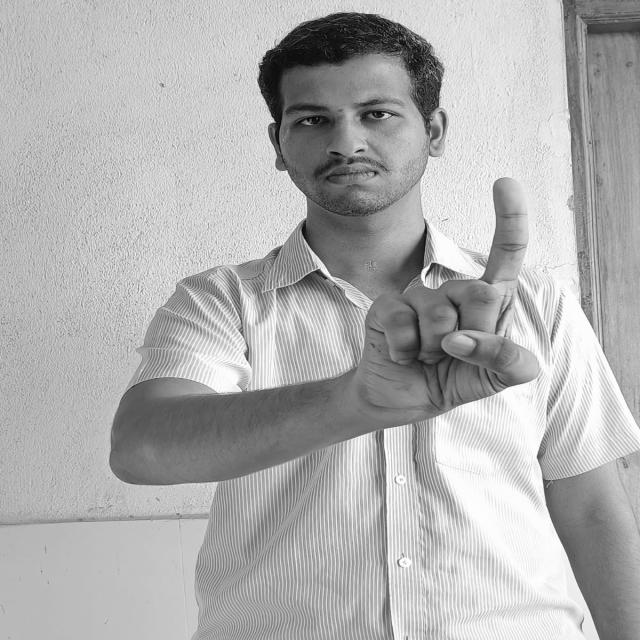Question: (370, 172, 544, 422)
